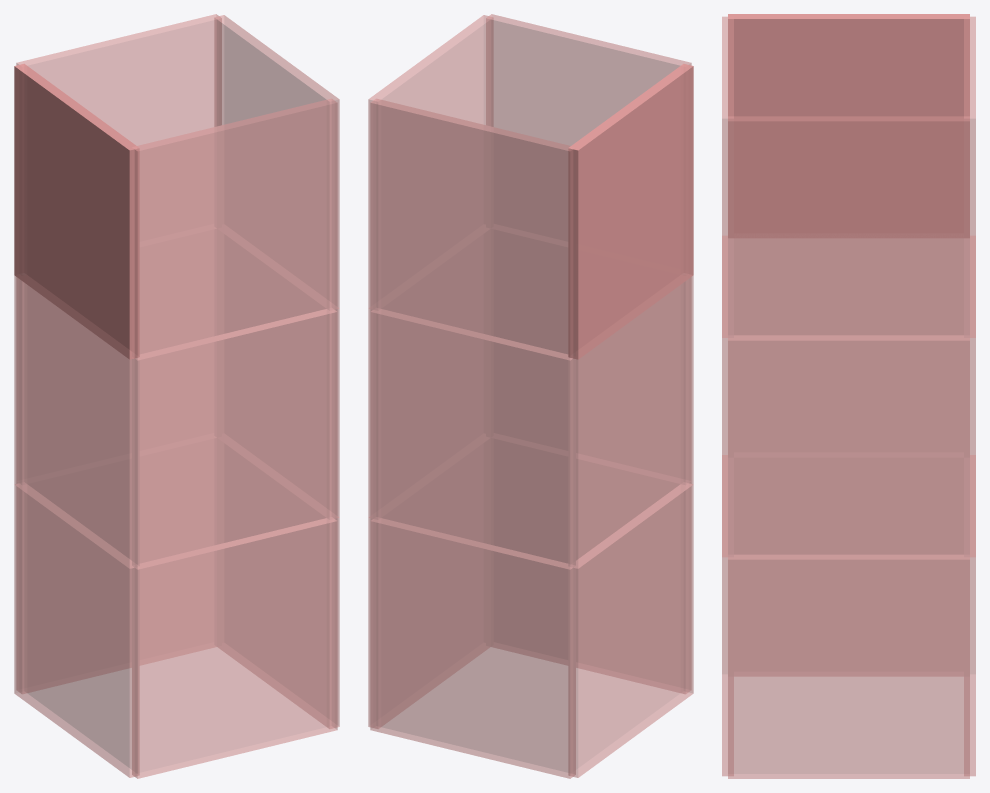
The model's file is torre_step13.glb.
The picture shows the model from 3 angles, left to right: view 1: azimuth 30°, elevation 25°; view 2: azimuth 150°, elevation 25°; view 3: azimuth 270°, elevation 25°; orthographic projection. The views are drawn at different scales.
Parts seen in each view (by area): view 1: qN, qN.001, qN.002, qS, qS.001, qW.002, qW, qE.002, qW.001, qE, qE.001, qS.002; view 2: qS.001, qS, qS.002, qN, qN.001, qW.002, qW, qE.002, qW.001, qE, qN.002, qE.001; view 3: qE.002, qE.001, qW.002, qE, qW, qW.001, qN.002, qS.002, qN, qS, qN.001, qS.001.
Part boxes in pixels (x1,y1,x2,y2): qN: (132, 518, 337, 778); qN.001: (132, 309, 337, 569); qN.002: (132, 98, 337, 360); qS: (16, 439, 216, 693); qS.001: (16, 229, 215, 484); qW.002: (14, 63, 139, 359); qW: (14, 483, 139, 777); qE.002: (214, 15, 339, 310); qW.001: (14, 275, 139, 568); qE: (217, 442, 339, 728); qE.001: (219, 232, 339, 519); qS.002: (16, 14, 221, 246); qS.001: (370, 309, 575, 569); qS: (370, 518, 575, 778); qS.002: (370, 98, 575, 360); qN: (491, 439, 691, 693); qN.001: (491, 229, 691, 484); qW.002: (568, 64, 693, 359); qW: (568, 483, 693, 777); qE.002: (368, 15, 493, 310); qW.001: (568, 275, 693, 568); qE: (368, 442, 490, 728); qN.002: (486, 14, 691, 246); qE.001: (368, 232, 488, 519); qE.002: (728, 116, 969, 340); qE.001: (728, 335, 969, 559); qW.002: (728, 14, 969, 237); qE: (728, 555, 969, 778); qW: (734, 458, 963, 676); qW.001: (734, 238, 963, 456); qN.002: (722, 16, 733, 337); qS.002: (964, 16, 975, 337); qN: (722, 455, 733, 776); qS: (964, 455, 975, 776); qN.001: (722, 236, 733, 557); qS.001: (964, 236, 975, 557).
Bounding box in the file's own units: 1.05 × 3 × 1.05.
